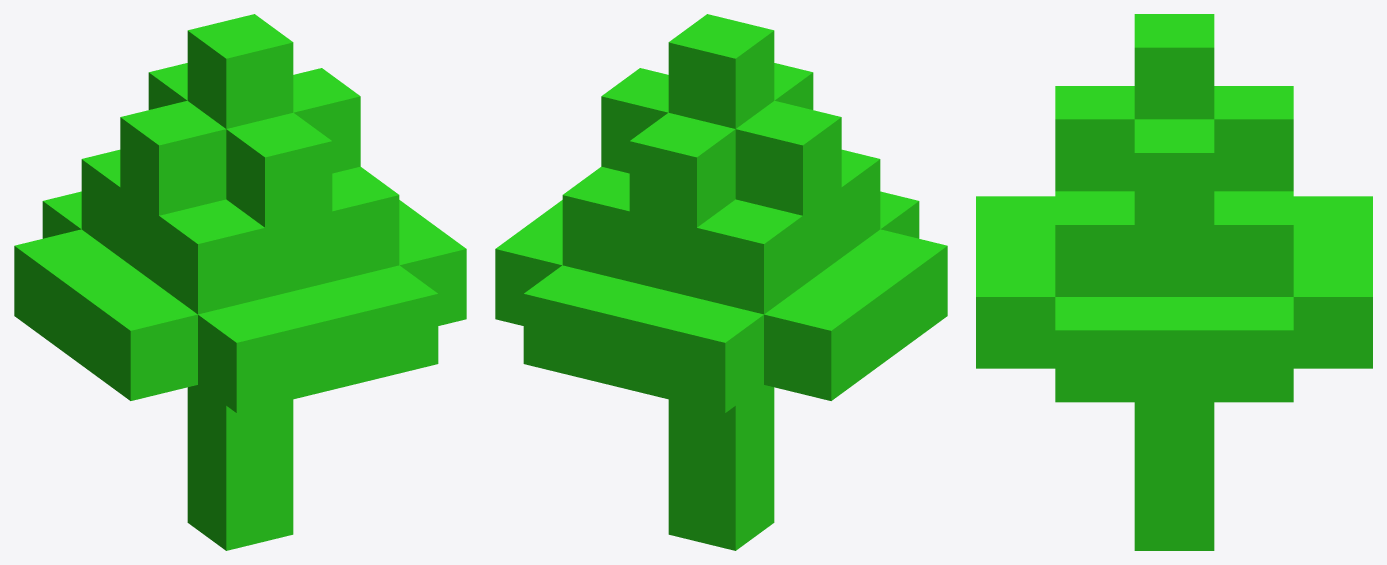
The model's file is Tree1.FBX.
3 views of the same model, side by side, from view 1: azimuth 30°, elevation 25°; view 2: azimuth 150°, elevation 25°; view 3: azimuth 270°, elevation 25° (orthographic). The views are drawn at different scales.
Parts seen in each view (by area): view 1: Leaves2, Tronc2; view 2: Leaves2, Tronc2; view 3: Leaves2, Tronc2.
Part boxes in pixels (x1,y1,x2,y2): Leaves2: (14,14,466,412); Tronc2: (187,385,293,550); Leaves2: (495,14,947,412); Tronc2: (668,385,774,550); Leaves2: (976,14,1372,402); Tronc2: (1134,402,1214,550).
Bounding box in the file's own units: 500 × 700 × 500.
